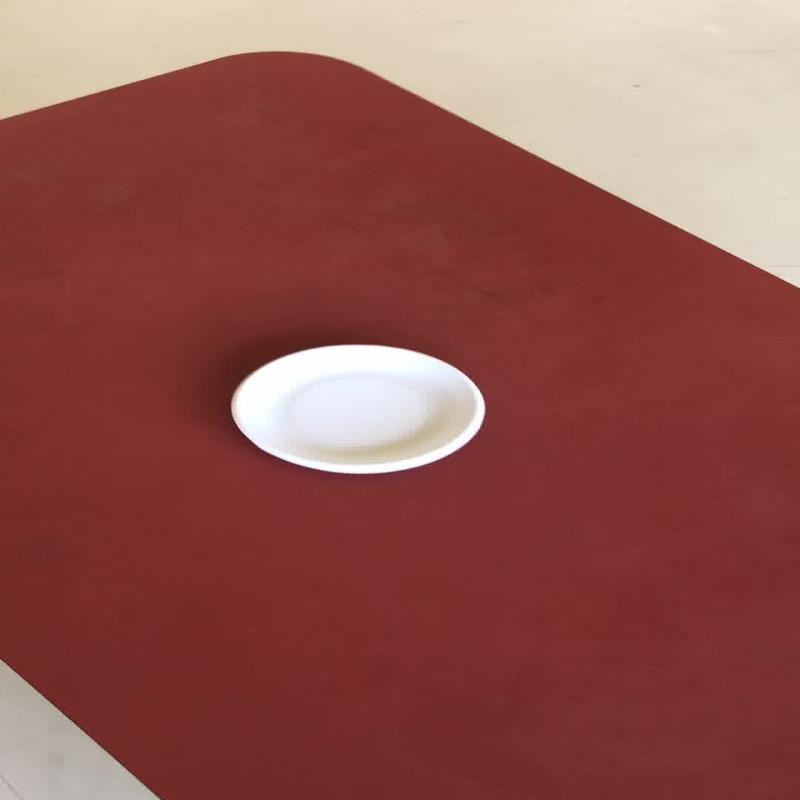plate: (228, 342, 485, 474)
